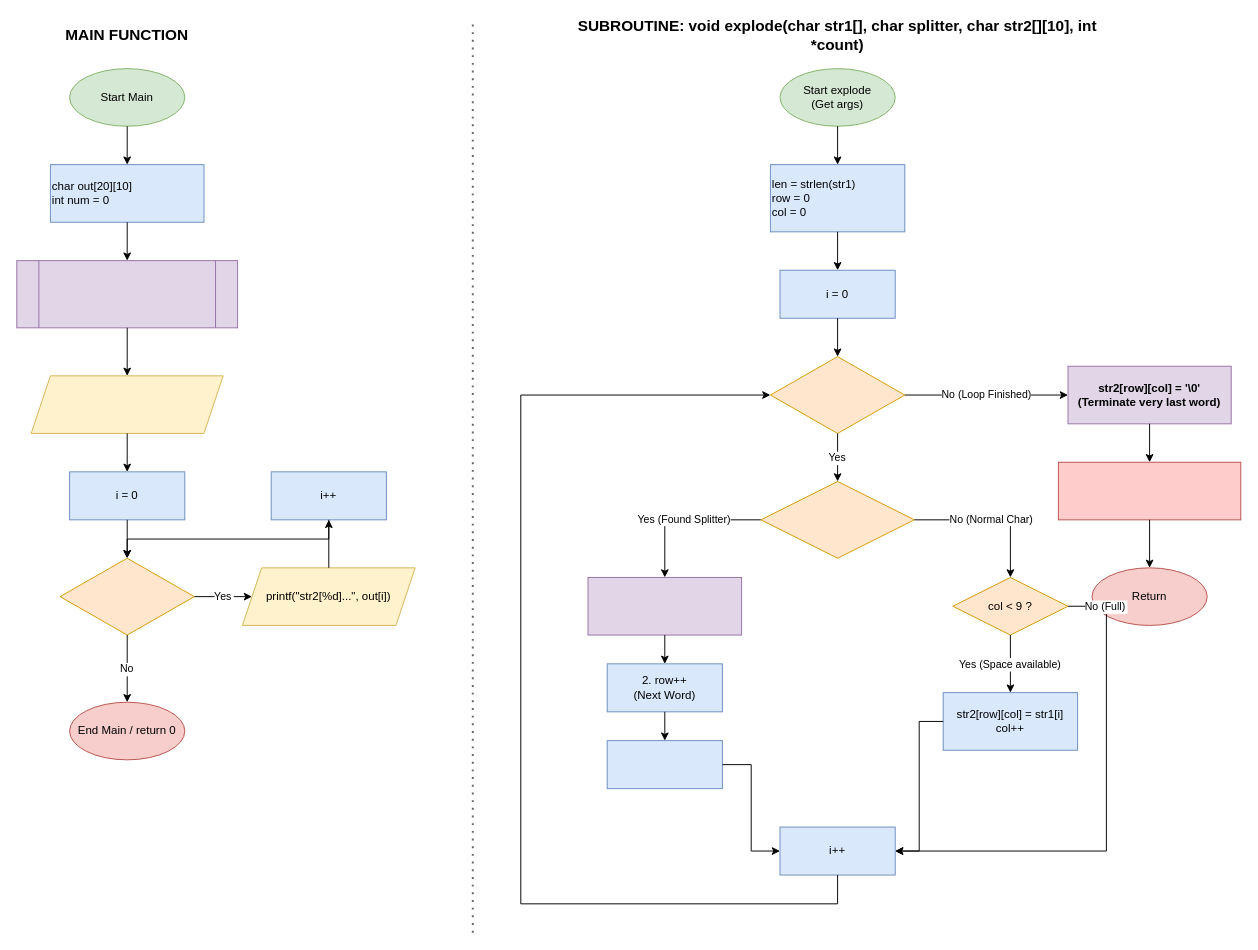
The diagram is 1258 pixels wide and 950 high, and some of its shapes have lost their labels. Here are the shapes that lost their labels. From the top down, the centre of each, then its label:
(127,294): explode("I/Love/You", '/', out, &num) (Pass address of num)
(126,404): printf("count = %d", num)
(837,394): i < len ?
(1149,490): *count = row + 1 (Update main's variable using pointer)
(837,519): str1[i] == splitter ?
(126,596): i < num ?
(664,605): 1. str2[row][col] = '\0' (Close Word)
(664,764): 3. col = 0 (Reset Position)
